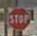stop: (7, 7, 30, 30)
